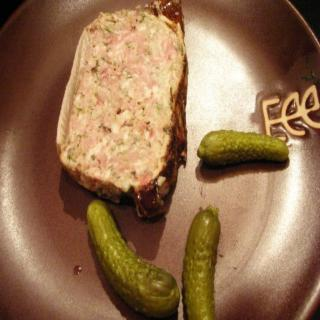Cucumber: (91, 196, 177, 316), (182, 203, 220, 319), (196, 128, 290, 162)
